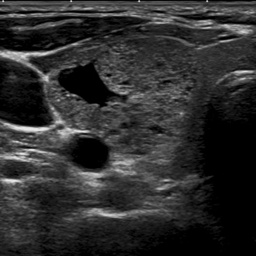mass: (46, 34, 199, 145)
